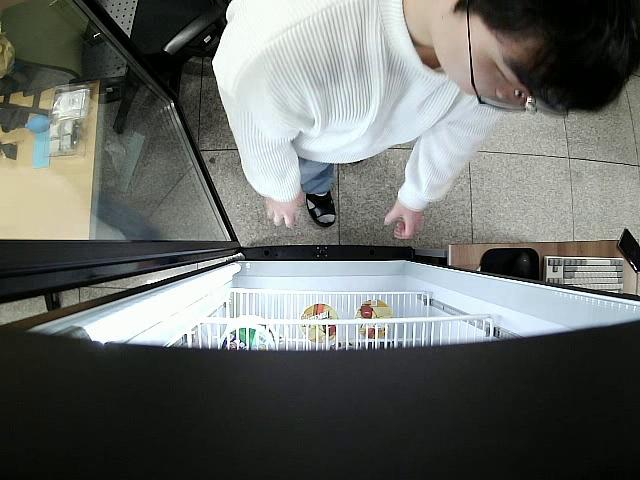00_hand: (263, 187, 303, 230), (383, 199, 424, 240)
